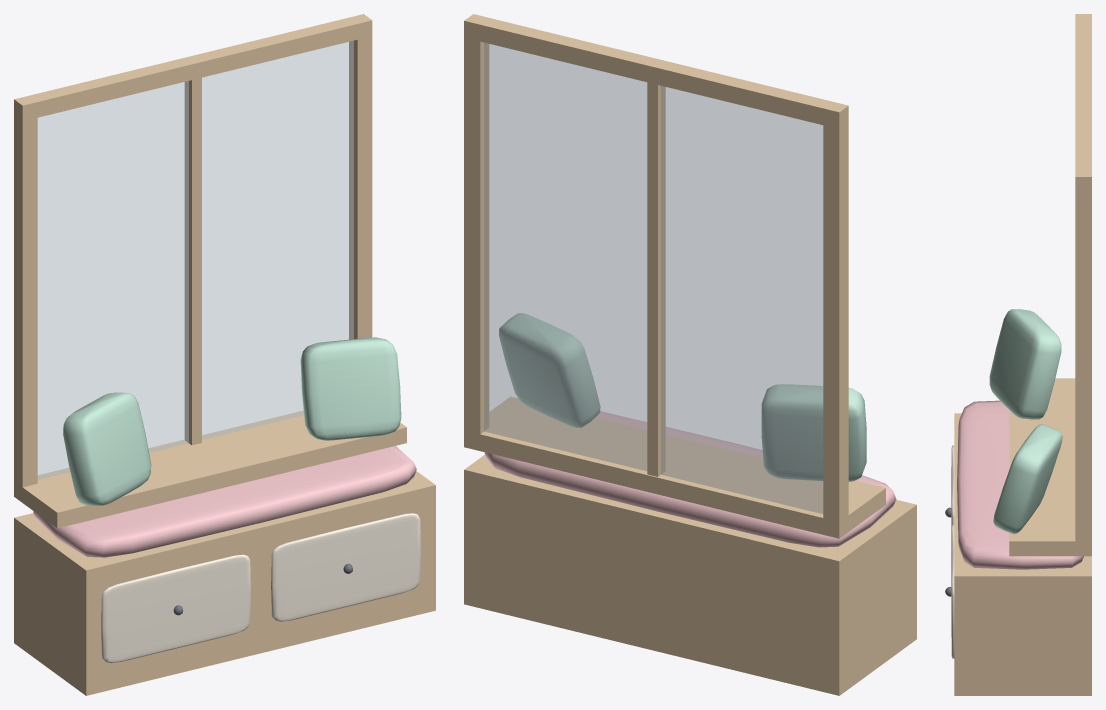
Rendered from companion-animals-and-pet-home-window-seat-2d9c7fba__20682.glb.
3 views of the same model, side by side, from view 1: azimuth 30°, elevation 25°; view 2: azimuth 150°, elevation 25°; view 3: azimuth 270°, elevation 25° (orthographic). The views are drawn at different scales.
Parts seen in each view (by area): view 1: window-seat; view 2: window-seat; view 3: window-seat.
Part boxes in pixels (left/top/right/bottom): window-seat: left=14, top=14, right=435, bottom=695; window-seat: left=464, top=14, right=916, bottom=695; window-seat: left=945, top=14, right=1091, bottom=695.
Size of the model in its own units: 1.4 by 2.08 by 0.533.
